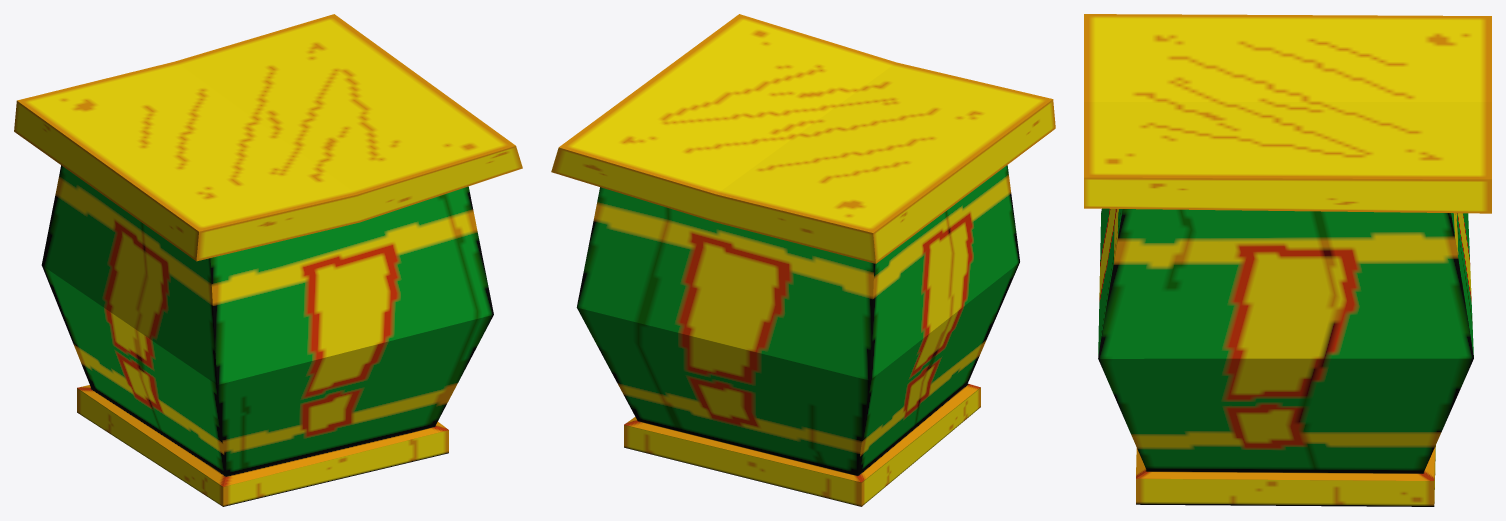
Rendered from NitroDetonatorACTIVATED.obj.
The picture shows the model from 3 angles, left to right: view 1: azimuth 30°, elevation 25°; view 2: azimuth 150°, elevation 25°; view 3: azimuth 270°, elevation 25°; orthographic projection. The views are drawn at different scales.
Visible parts, largest first — view 1: activated; view 2: activated; view 3: activated.
Part boxes in pixels (left/top/right/bottom): activated: left=14, top=14, right=522, bottom=506; activated: left=551, top=14, right=1055, bottom=506; activated: left=1084, top=14, right=1491, bottom=506.
Bounding box in the file's own units: 2.25 × 2.05 × 2.16.
1 material, 1 textured.
